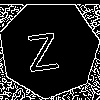Z: (24, 23, 60, 72)
